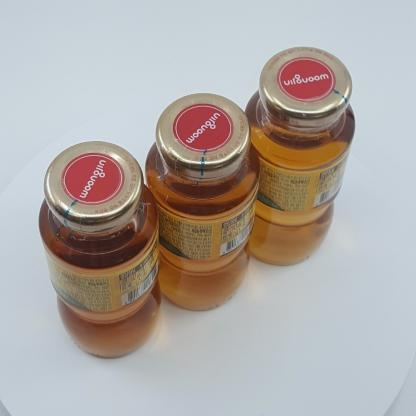-------180ML: (38, 141, 161, 358), (145, 93, 261, 310), (244, 46, 355, 265)
